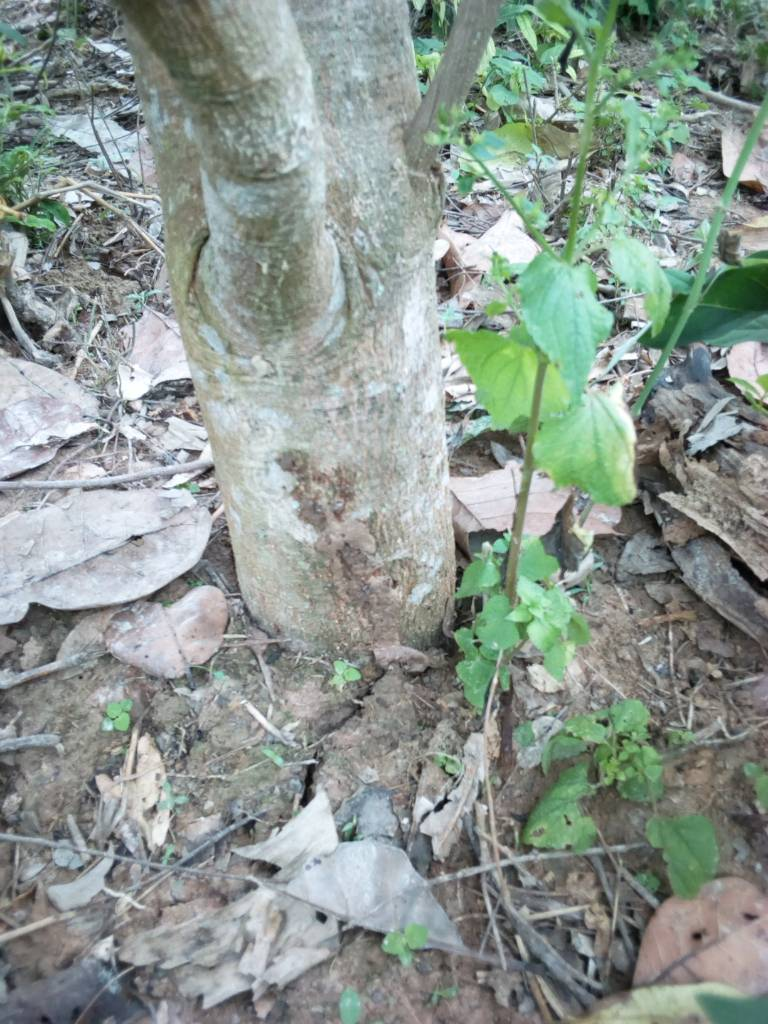Termites: (285, 430, 419, 666)
